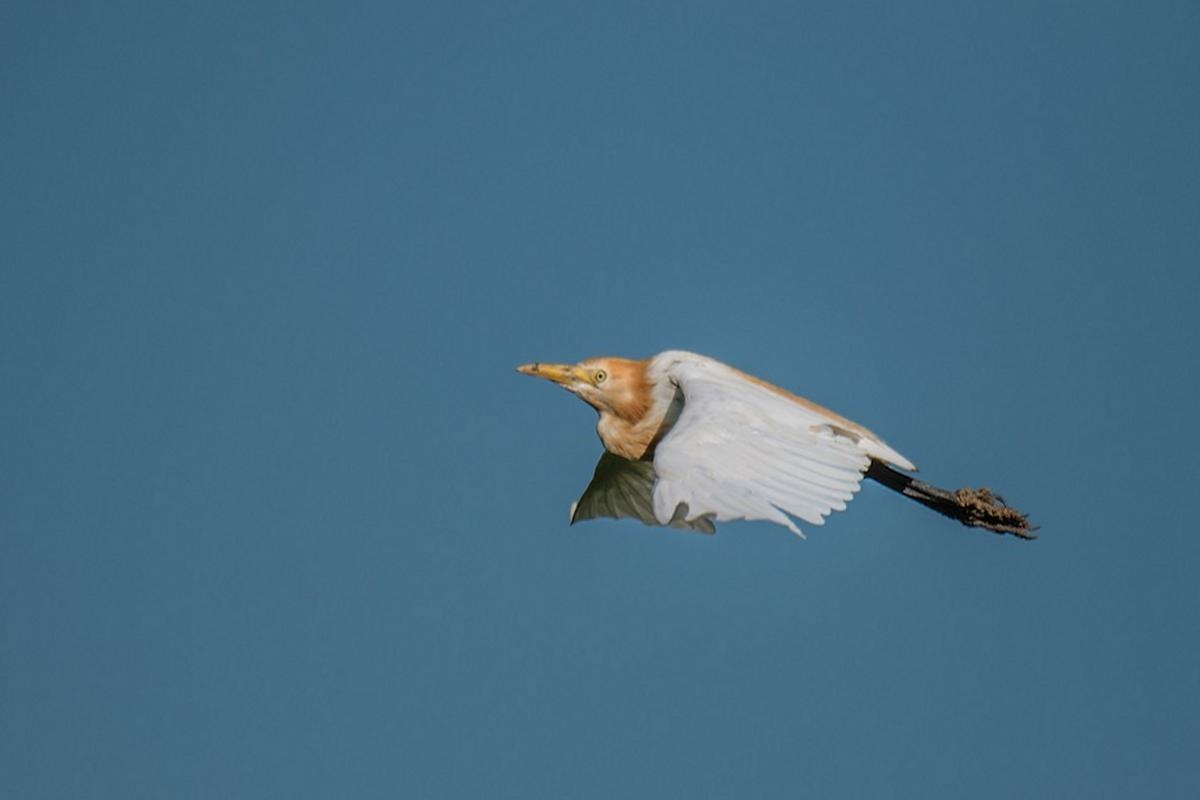egret: (491, 318, 1097, 536)
